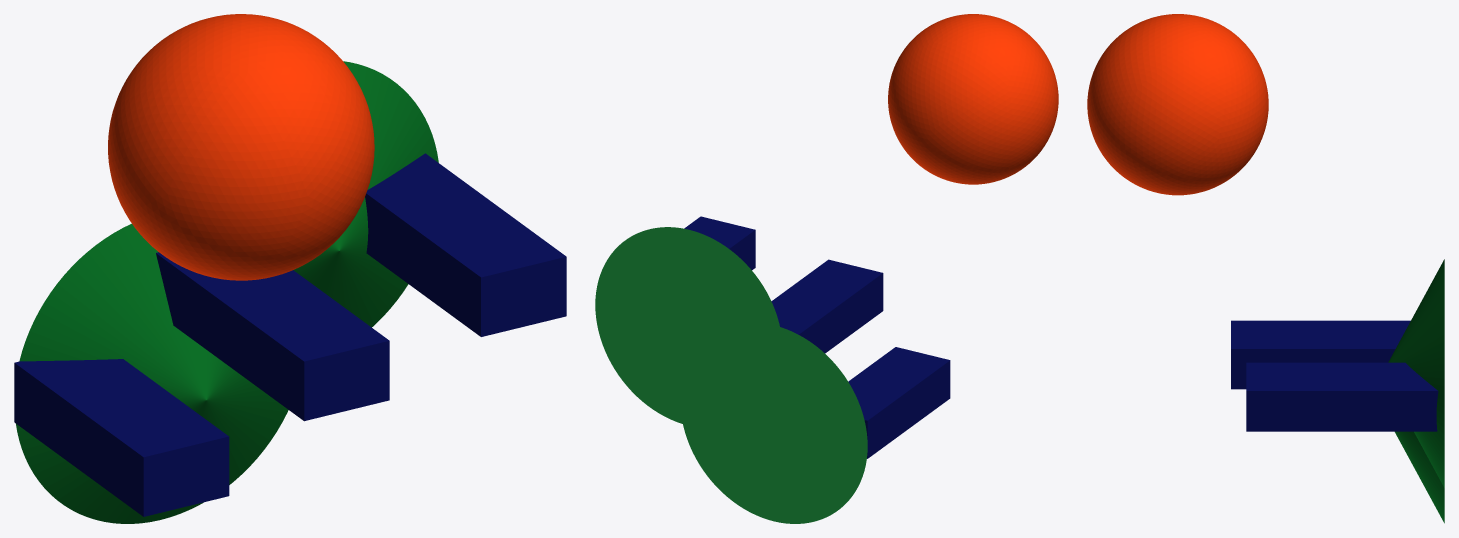
File: rogo.obj
3 views of the same model, side by side, from view 1: azimuth 30°, elevation 25°; view 2: azimuth 150°, elevation 25°; view 3: azimuth 270°, elevation 25° (orthographic). The views are drawn at different scales.
Visible parts, largest first — view 1: Object.6, Object.1, Object.5, Object.3, Object.4, Object.2; view 2: Object.2, Object.6, Object.1, Object.5, Object.4, Object.3; view 3: Object.6, Object.3, Object.4, Object.2, Object.1.
Part boxes in pixels (x1=…): Object.6: x1=108, y1=14, x2=374, y2=280; Object.1: x1=16, y1=223, x2=288, y2=523; Object.5: x1=14, y1=359, x2=229, y2=516; Object.3: x1=365, y1=153, x2=566, y2=336; Object.4: x1=156, y1=252, x2=389, y2=421; Object.2: x1=293, y1=61, x2=438, y2=327; Object.2: x1=595, y1=227, x2=782, y2=428; Object.6: x1=888, y1=14, x2=1058, y2=184; Object.1: x1=683, y1=327, x2=867, y2=523; Object.5: x1=848, y1=347, x2=950, y2=458; Object.4: x1=771, y1=259, x2=883, y2=353; Object.3: x1=684, y1=216, x2=755, y2=269; Object.6: x1=1087, y1=14, x2=1268, y2=195; Object.3: x1=1246, y1=362, x2=1438, y2=431; Object.4: x1=1231, y1=320, x2=1410, y2=389; Object.2: x1=1388, y1=259, x2=1444, y2=487; Object.1: x1=1395, y1=431, x2=1444, y2=523.
Bounding box in the file's own units: 211 × 263 × 189.
